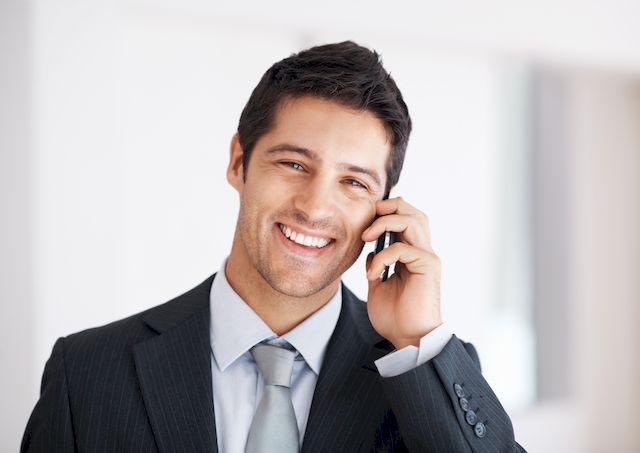phone: (363, 204, 407, 289)
talk: (244, 131, 443, 345)
